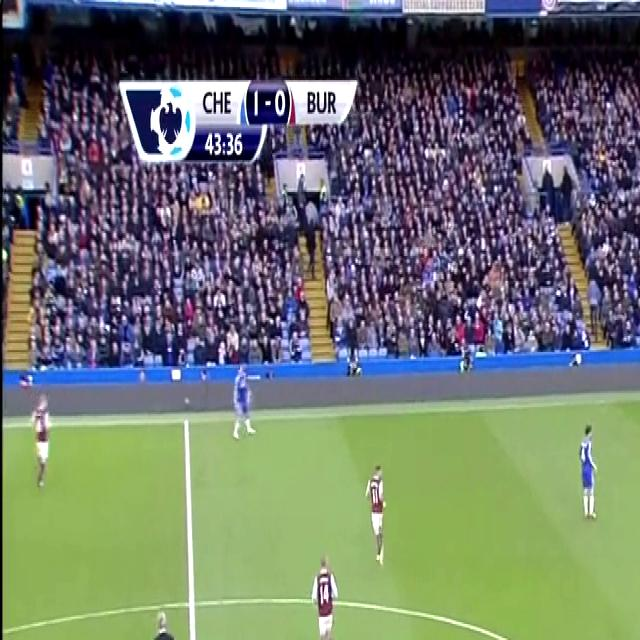referee: (139, 595, 185, 640)
soccer-player: (362, 456, 393, 578), (574, 412, 606, 526), (28, 388, 58, 498), (308, 546, 341, 640), (230, 353, 260, 446)
